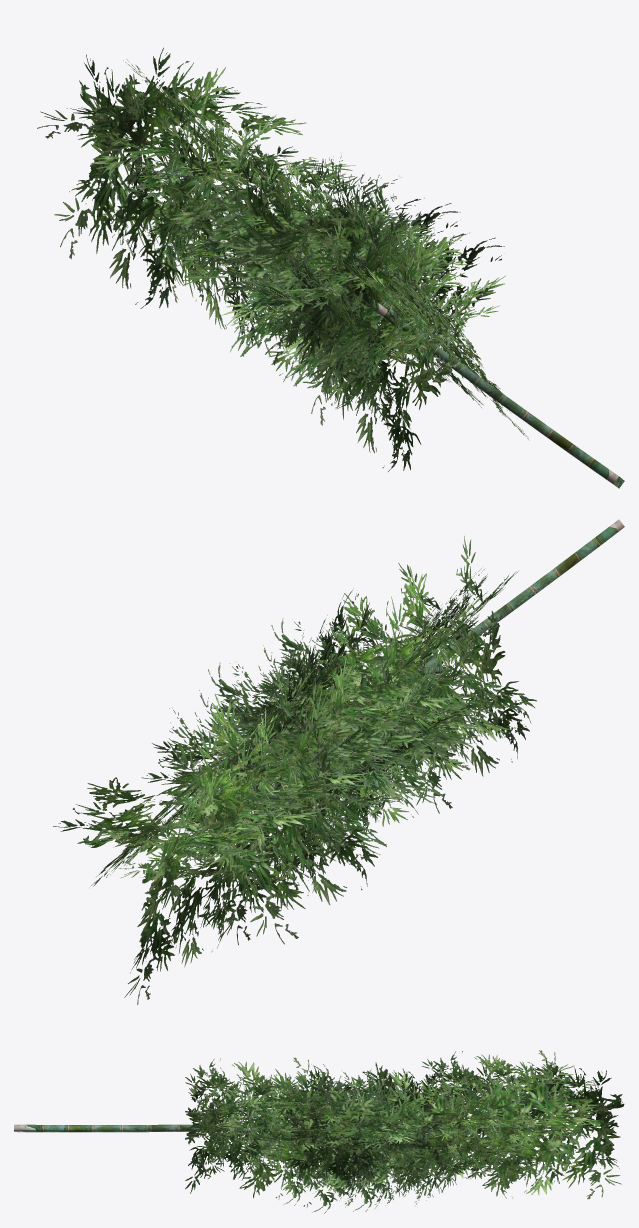
File: bamboo.fbx
3 renders of one model, top to bottom at view 1: azimuth 30°, elevation 25°; view 2: azimuth 150°, elevation 25°; view 3: azimuth 270°, elevation 25°, orthographic. The views are drawn at different scales.
Visible parts, largest first — view 1: Sans_titre; view 2: Sans_titre; view 3: Sans_titre.
Boxes of the visible parts, x1,y1,x2,y2 form: Sans_titre: (37,47,624,488); Sans_titre: (53,519,624,1004); Sans_titre: (14,1050,624,1213).
Size of the model in its own units: 6.36 by 6.06 by 22.27.
Materials: 3 (3 with a texture image).
